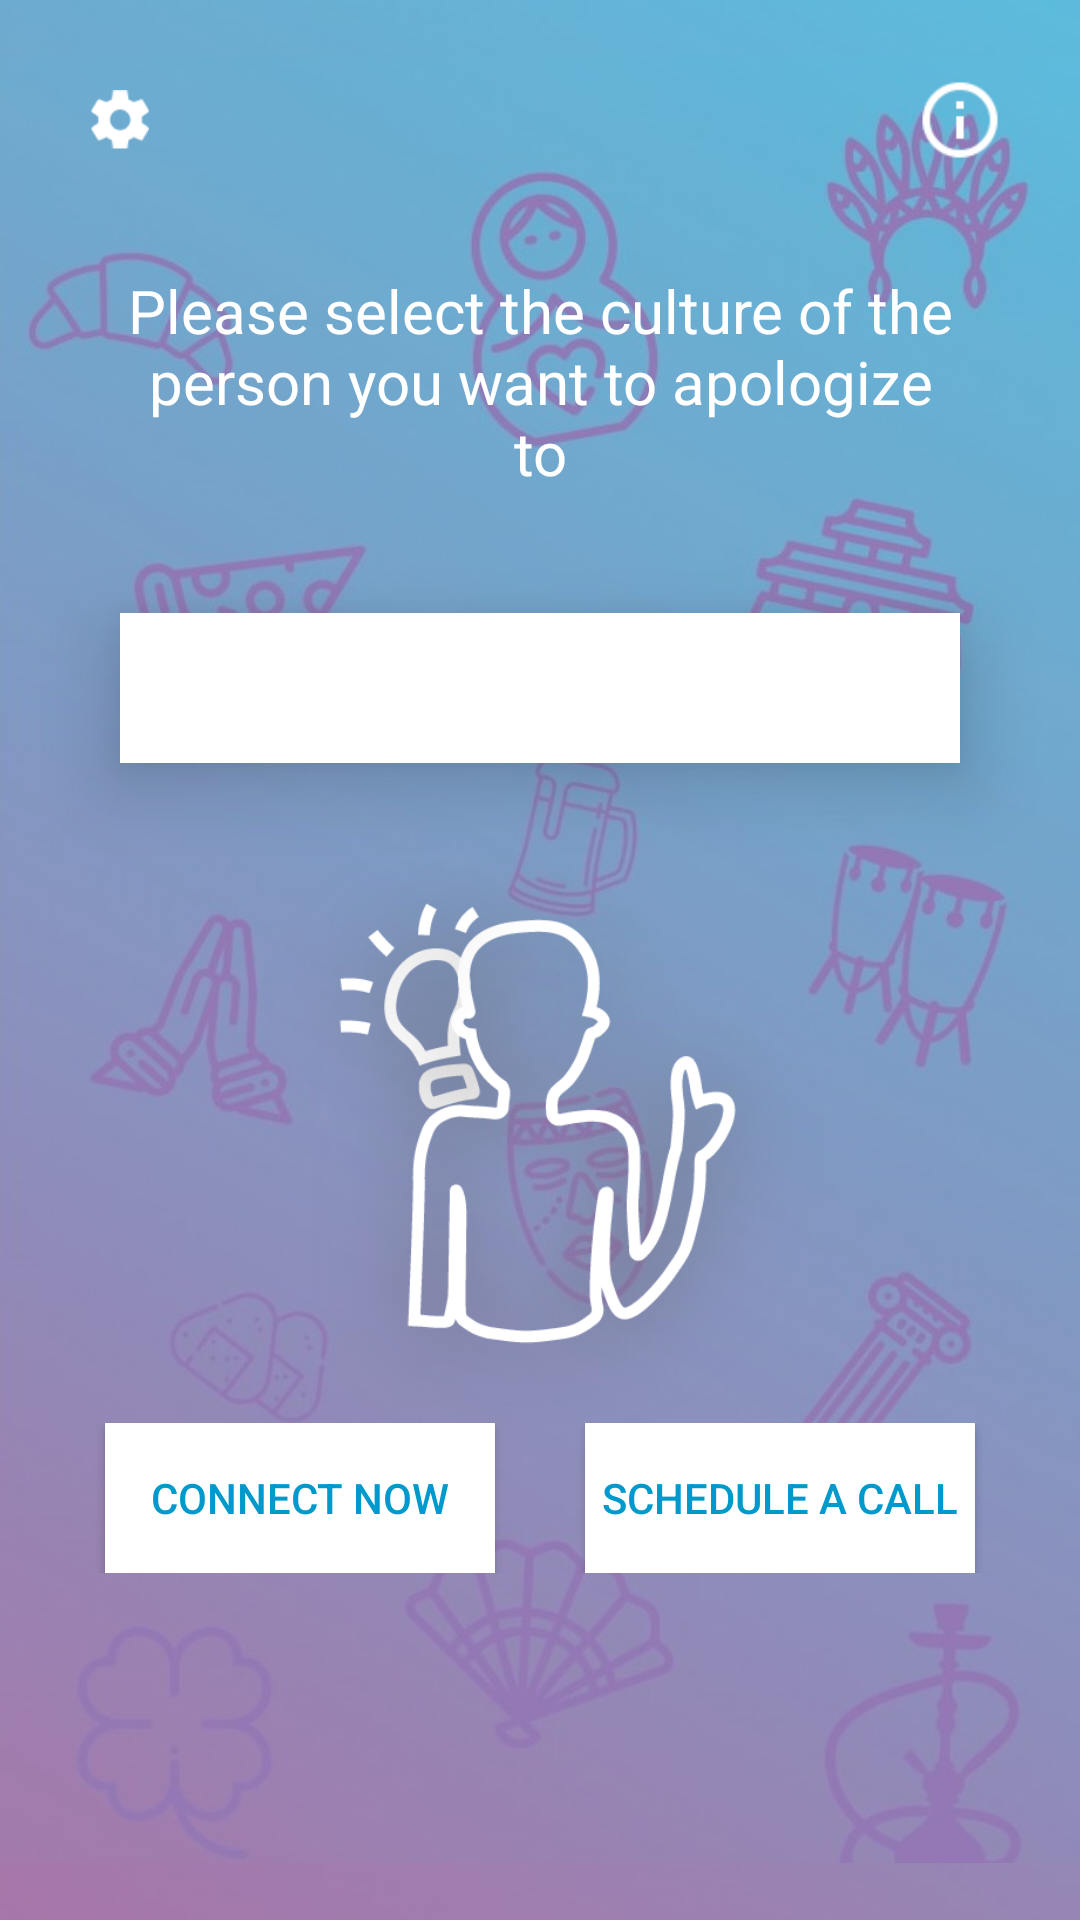

Icons on this 1080w x 1920h Android screen, each with the point to tap as (x=x, y=y):
settings: (x=120, y=119)
